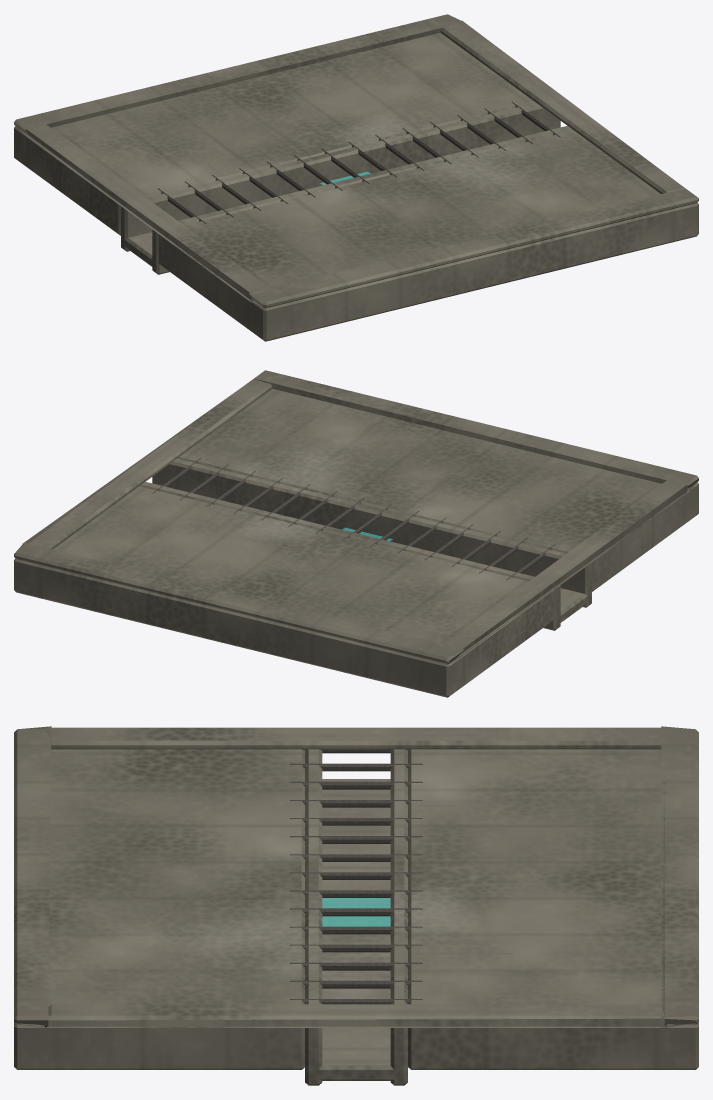
Rendered from WK_FLOOR_CHANNEL_A_01.glb.
The picture shows the model from 3 angles, top to bottom: view 1: azimuth 30°, elevation 25°; view 2: azimuth 150°, elevation 25°; view 3: azimuth 270°, elevation 25°; orthographic projection. The views are drawn at different scales.
Visible parts, largest first — view 1: WK_FLOOR_CHANNEL_A_01; view 2: WK_FLOOR_CHANNEL_A_01; view 3: WK_FLOOR_CHANNEL_A_01.
Part boxes in pixels (x1,y1,x2,y2): WK_FLOOR_CHANNEL_A_01: [14, 14, 698, 341]; WK_FLOOR_CHANNEL_A_01: [14, 370, 698, 697]; WK_FLOOR_CHANNEL_A_01: [14, 726, 698, 1085].
Size of the model in its own units: 4.04 by 0.45 by 4.
3 materials, 2 textured.
